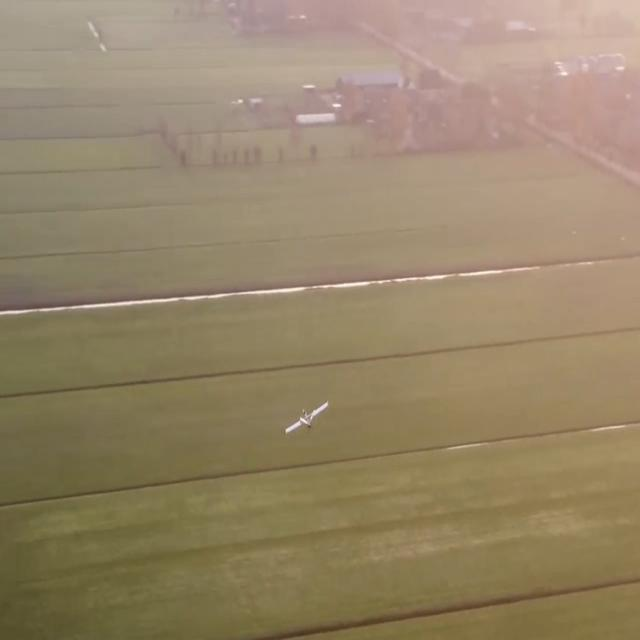iha: (287, 396, 328, 439)
